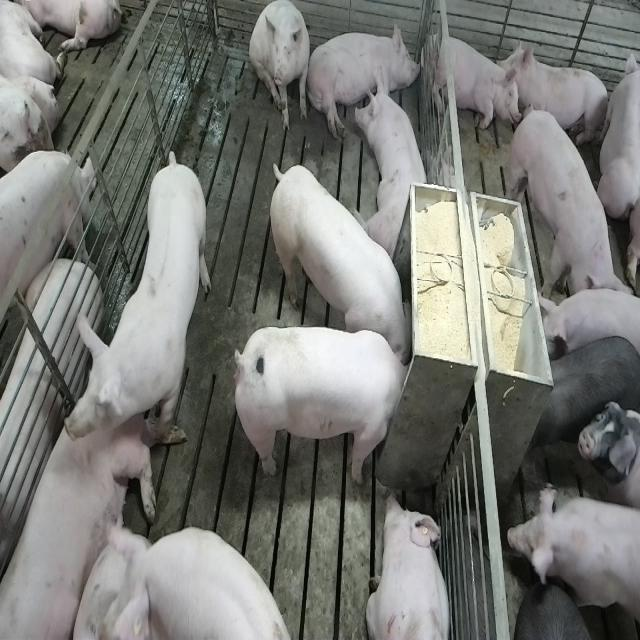Feeding: (264, 160, 412, 361), (240, 324, 418, 484)
Lateral_lying: (306, 21, 422, 139)
Sitting: (250, 2, 312, 134)
Standing: (65, 146, 210, 466), (508, 103, 624, 311), (506, 481, 638, 640), (0, 152, 95, 350), (135, 524, 295, 639), (530, 333, 639, 456), (534, 287, 640, 363)
Sternal_lying: (0, 374, 156, 640), (355, 68, 433, 260), (366, 489, 453, 640), (503, 39, 612, 152), (428, 31, 516, 133)
